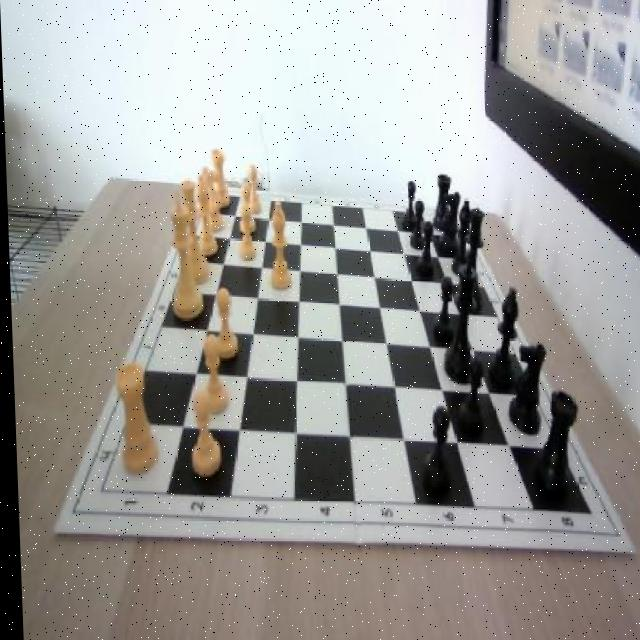bishop: (484, 286, 519, 385), (449, 197, 473, 274)
black-bishop: (437, 260, 477, 383)
black-king: (502, 343, 546, 435), (435, 189, 462, 253)
black-knight: (418, 406, 450, 494), (454, 354, 482, 439), (428, 274, 453, 344), (414, 223, 433, 279), (399, 182, 417, 233), (407, 200, 425, 248)
black-queen: (530, 390, 576, 504), (430, 174, 450, 231)
black-rook: (266, 200, 291, 290), (193, 175, 217, 254)
white-bishop: (165, 188, 200, 317)
white-king: (197, 164, 223, 234)
white-knight: (184, 391, 219, 480), (199, 335, 231, 418), (208, 286, 236, 358), (235, 204, 256, 260), (238, 182, 254, 234), (245, 163, 259, 213)
white-pawn: (452, 208, 486, 308), (179, 182, 209, 286)
white-queen: (111, 363, 155, 475), (209, 149, 229, 209)
